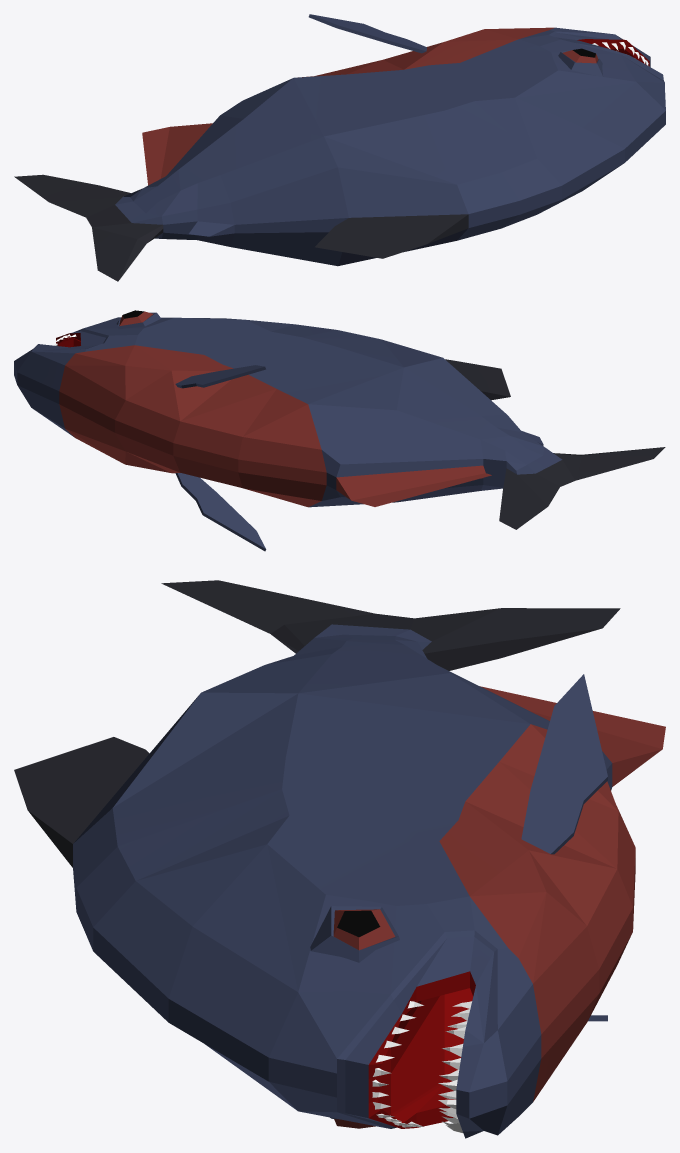
The model's file is GiantPiranha.obj.
The picture shows the model from 3 angles, top to bottom: view 1: azimuth 30°, elevation 25°; view 2: azimuth 150°, elevation 25°; view 3: azimuth 270°, elevation 25°; orthographic projection. The views are drawn at different scales.
Parts seen in each view (by area): view 1: GiantPiranha_0; view 2: GiantPiranha_0; view 3: GiantPiranha_0.
Part boxes in pixels (<box>): GiantPiranha_0: <box>14,14,665,281</box>; GiantPiranha_0: <box>14,310,665,551</box>; GiantPiranha_0: <box>14,580,665,1138</box>.
Size of the model in its own units: 1.5 by 0.4614 by 0.7849.
1 material, 1 textured.
